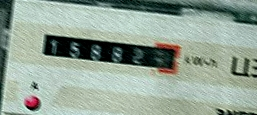1: (48, 37, 59, 53)
2: (131, 45, 143, 63)
5: (69, 39, 81, 56)
7: (153, 55, 163, 67)
8: (110, 44, 122, 62), (90, 42, 101, 59)
screen: (35, 23, 186, 79)
